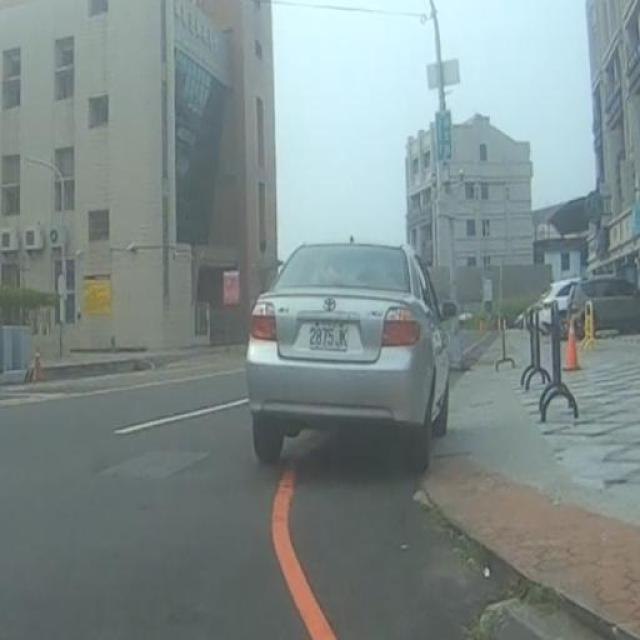illegalparking: (217, 220, 497, 470)
